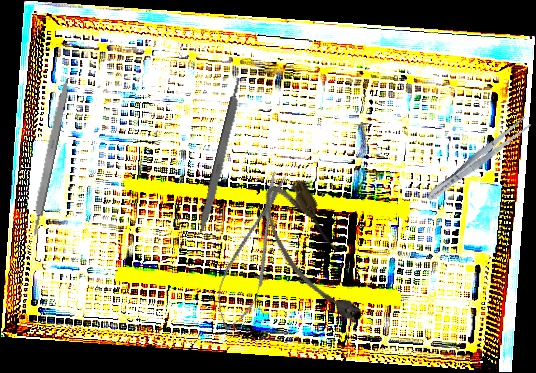Cannula: (253, 172, 373, 338)
Dressing Forceps: (423, 114, 533, 205)
Micro Scissor: (205, 165, 300, 339)
Scalpel Handle: (196, 77, 247, 234), (27, 76, 72, 237)
